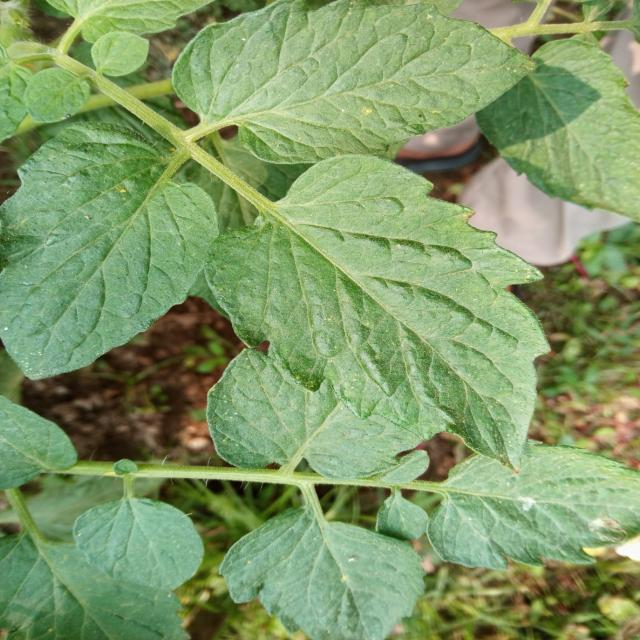Healthy: (176, 105, 619, 497), (0, 84, 249, 403), (173, 0, 533, 163), (185, 338, 425, 533), (467, 17, 640, 256), (208, 485, 436, 640), (64, 484, 212, 595)
